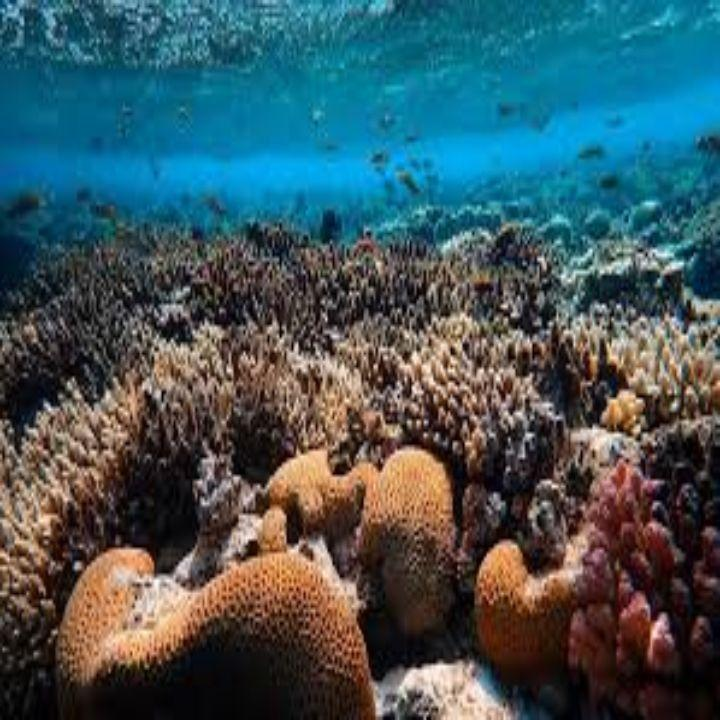Healthy Coral: (10, 269, 708, 667)
